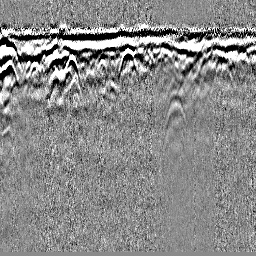cavity: (116, 44, 138, 79)
